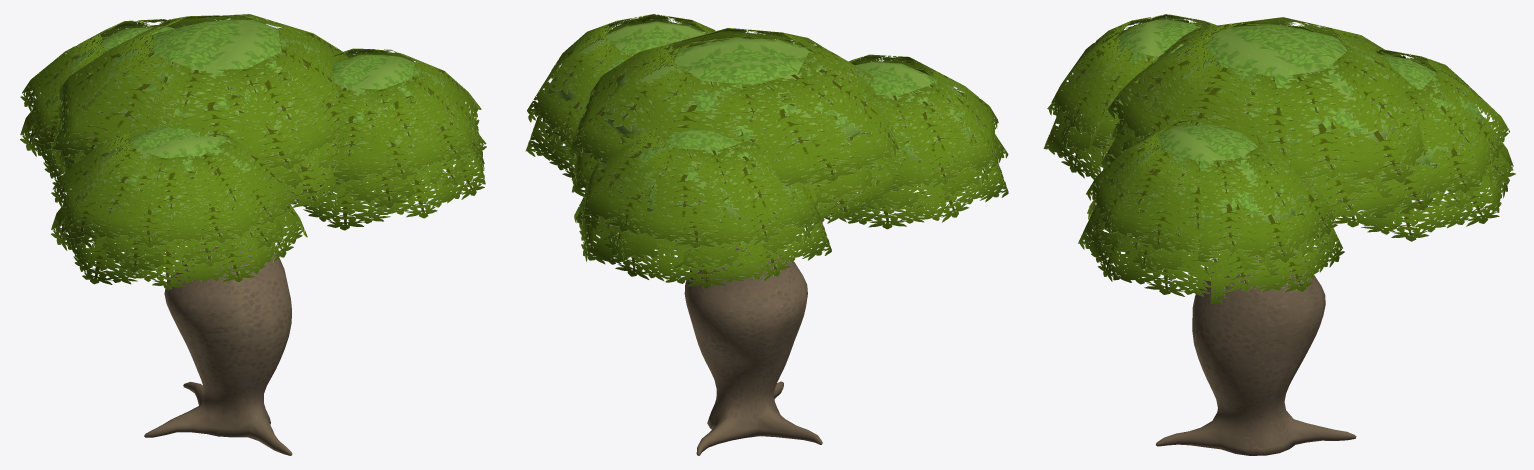
Rendered from ThreeFat.fbx.
3 views of the same model, side by side, from view 1: azimuth 30°, elevation 25°; view 2: azimuth 150°, elevation 25°; view 3: azimuth 270°, elevation 25° (orthographic). The views are drawn at different scales.
Parts seen in each view (by area): view 1: Cylinder.012; view 2: Cylinder.012; view 3: Cylinder.012.
Boxes of the visible parts, bbox=[...] form: Cylinder.012: bbox=[20, 14, 486, 455]; Cylinder.012: bbox=[525, 14, 1008, 455]; Cylinder.012: bbox=[1043, 14, 1515, 455].
Size of the model in its own units: 1569 by 1300 by 1431.
